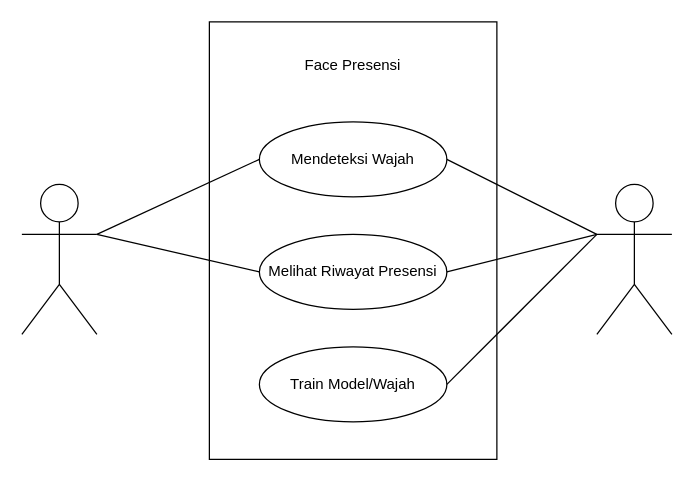
The diagram is 694 pixels wide and 481 high, and some of its shapes have lost their labels. Here are the shapes that lost their labels. From the top down, the box of each, then its label:
(21, 183, 97, 334): Siswa
(596, 183, 672, 334): Admin
